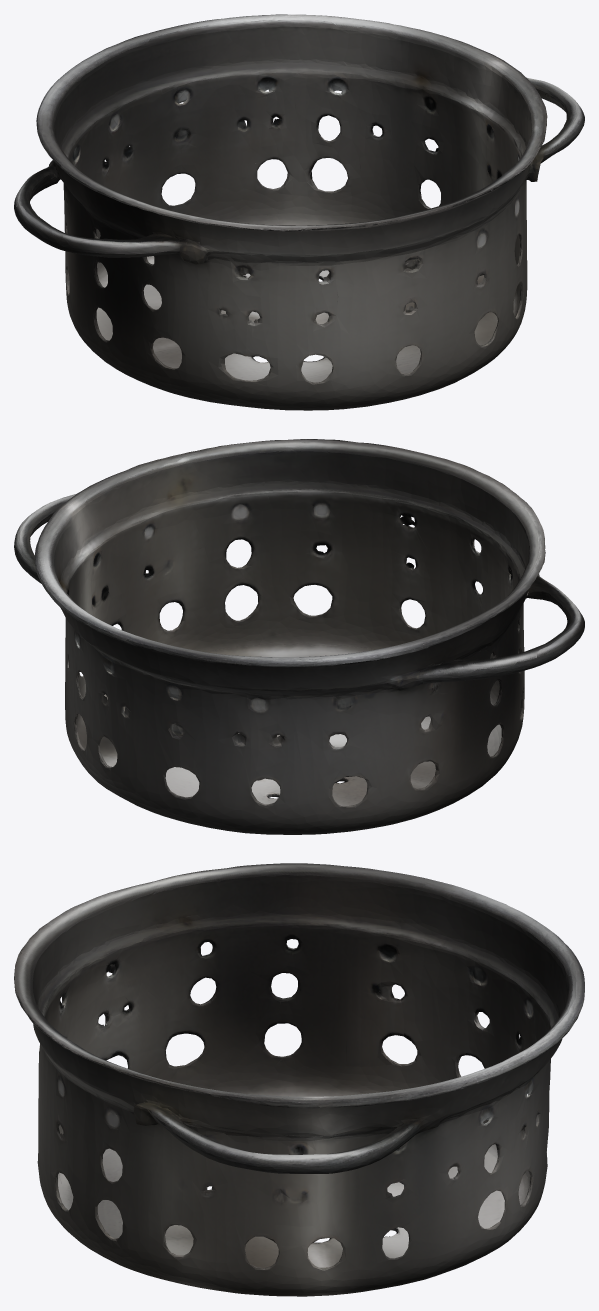
3 views of the same model, one above another, from view 1: azimuth 30°, elevation 25°; view 2: azimuth 150°, elevation 25°; view 3: azimuth 270°, elevation 25° (orthographic). The views are drawn at different scales.
Parts seen in each view (by area): view 1: geometry_0; view 2: geometry_0; view 3: geometry_0.
Boxes of the visible parts, x1,y1,x2,y2 form: geometry_0: [14, 14, 584, 410]; geometry_0: [14, 439, 584, 834]; geometry_0: [14, 863, 584, 1296].
Bounding box in the file's own units: 0.1011 × 0.037 × 0.0847.
1 material, 1 textured.
